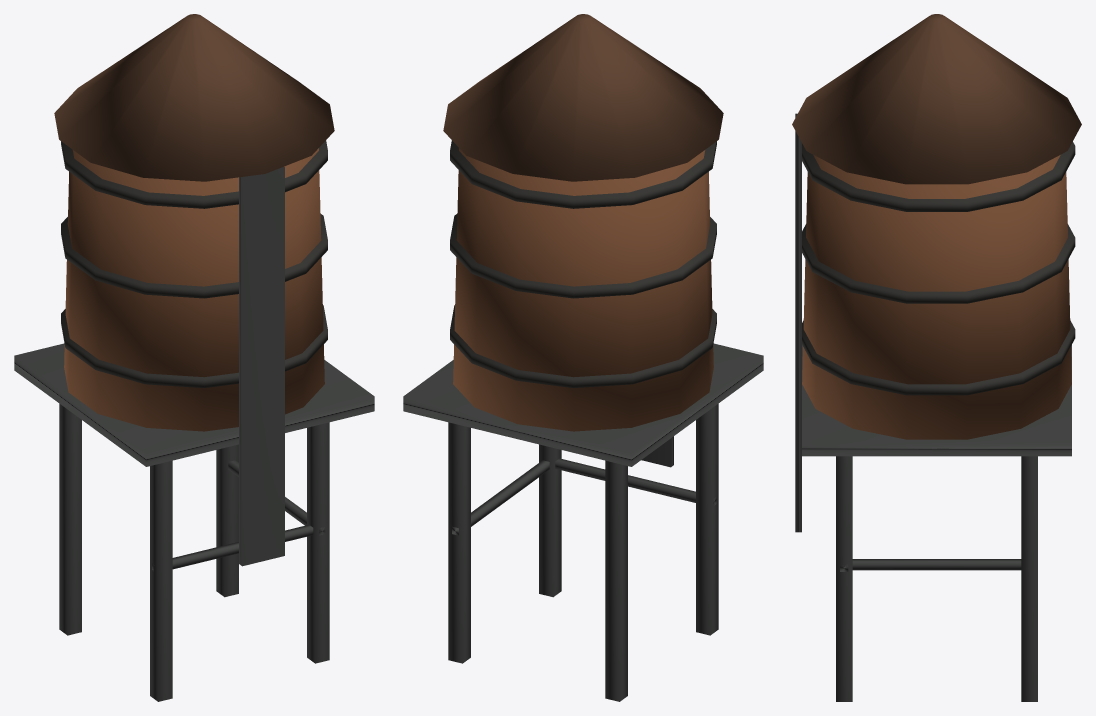
File: roof_watertower.glb
The picture shows the model from 3 angles, left to right: view 1: azimuth 30°, elevation 25°; view 2: azimuth 150°, elevation 25°; view 3: azimuth 270°, elevation 25°; orthographic projection. The views are drawn at different scales.
Visible parts, largest first — view 1: roof_watertower; view 2: roof_watertower; view 3: roof_watertower.
Part boxes in pixels (x1,y1,x2,y2): roof_watertower: [14, 14, 374, 701]; roof_watertower: [403, 14, 763, 701]; roof_watertower: [792, 14, 1081, 701].
Bounding box in the file's own units: 1.68 × 4.2 × 1.72.
